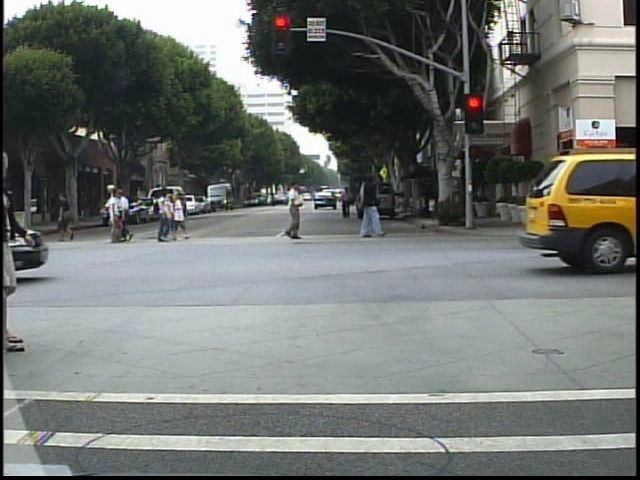person: (353, 169, 389, 242), (281, 177, 310, 241), (154, 188, 177, 246), (55, 185, 76, 240), (104, 181, 121, 245), (106, 188, 120, 244), (340, 184, 356, 220), (122, 186, 130, 245)
